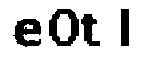0: (48, 6, 82, 51)
e: (10, 19, 45, 51)
l: (113, 4, 135, 52)
t: (80, 12, 103, 50)
